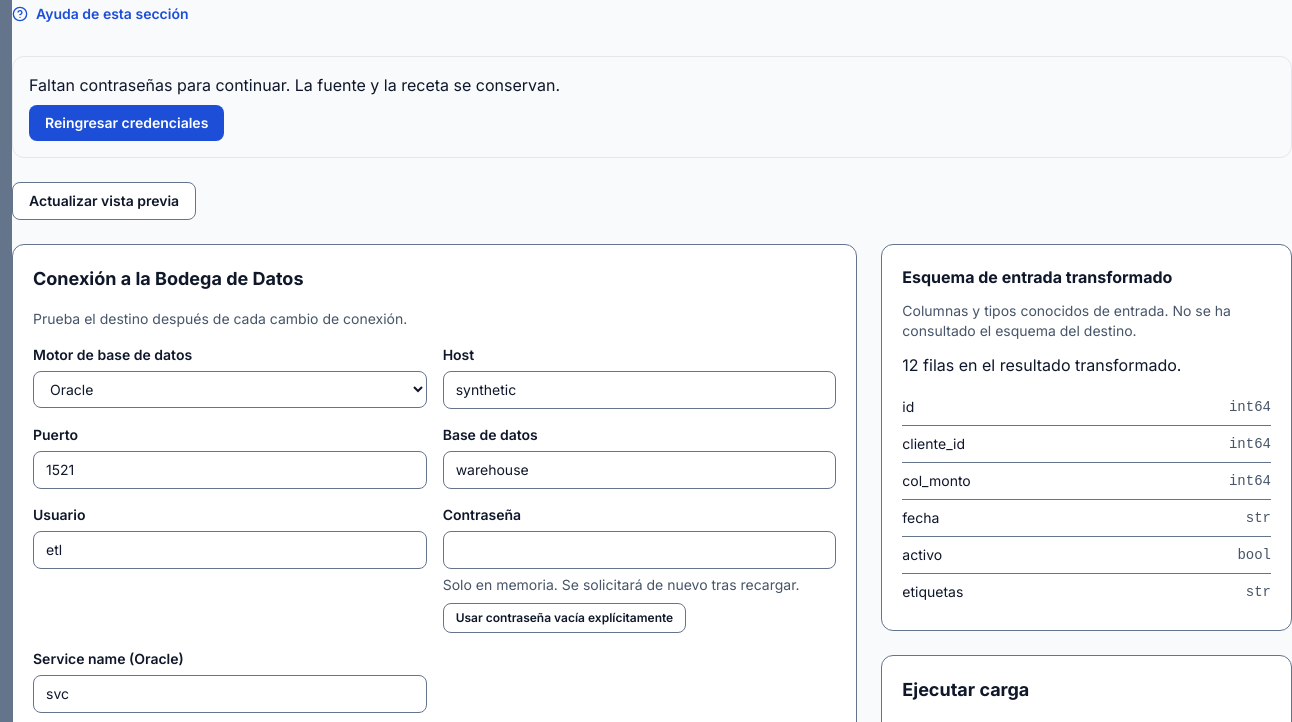
Test: load validation, snapshots and foreign keys › table  is rejected before sending
Click the button "Usar contraseña vacía explícitamente": (564, 618) [443,603,686,633]
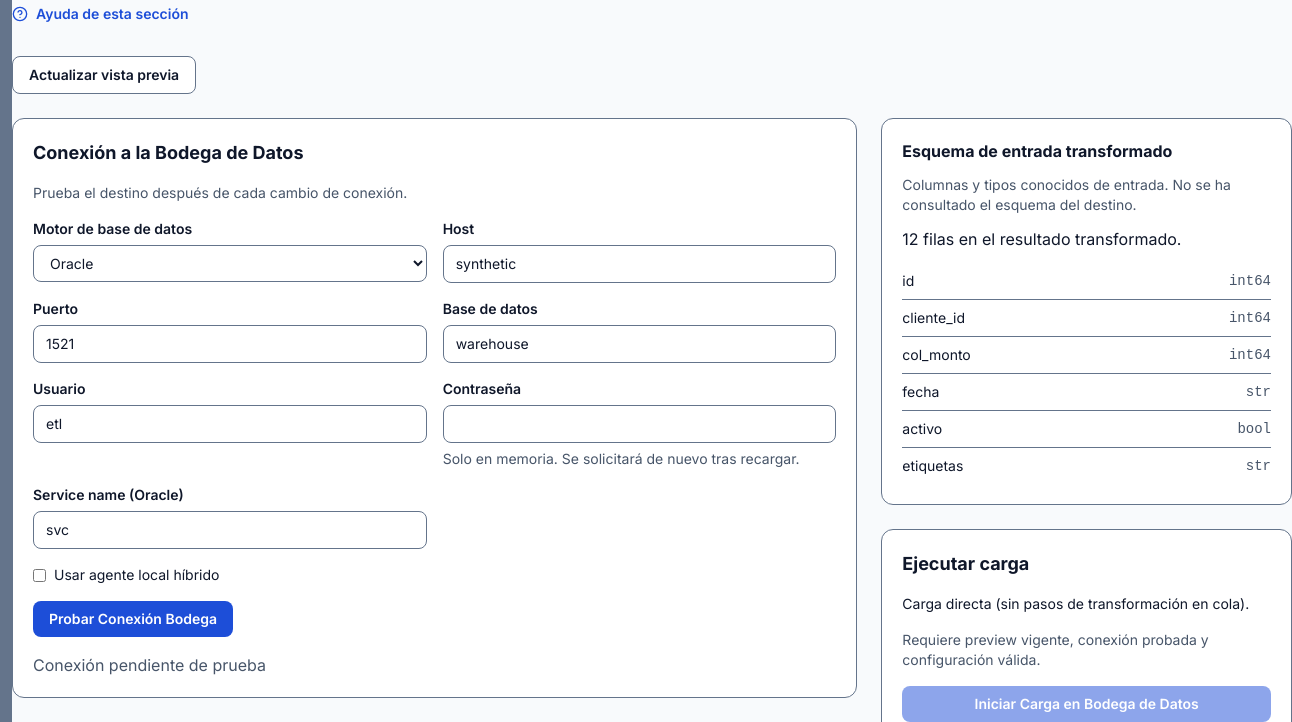
Click the button "Probar Conexión Bodega": (133, 619) [33,601,233,637]
(page scrolled)
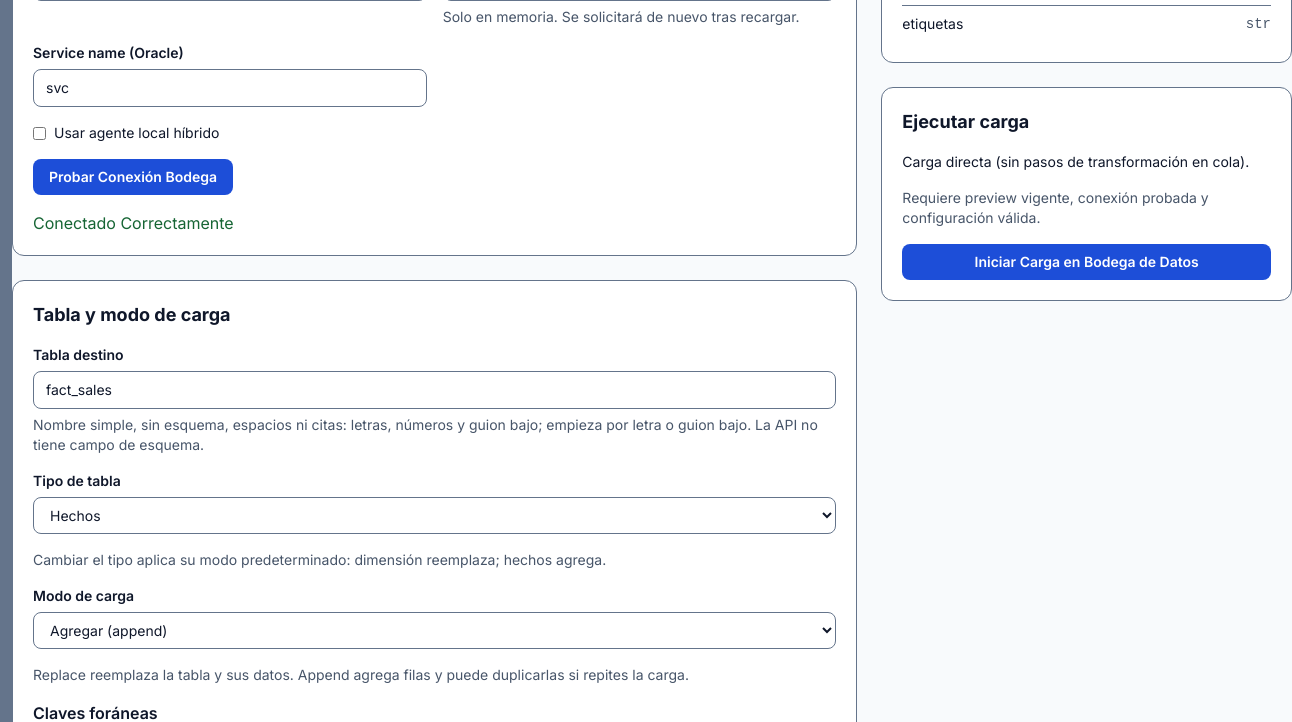
Expected: the text "Conectado Correctamente" is shown, [33,213,234,233]
Expected: the button "Iniciar Carga en Bodega de Datos" is enabled, [902,244,1271,280]
Clear the field labelled "Tabla destino": (435, 390) [33,371,836,409]
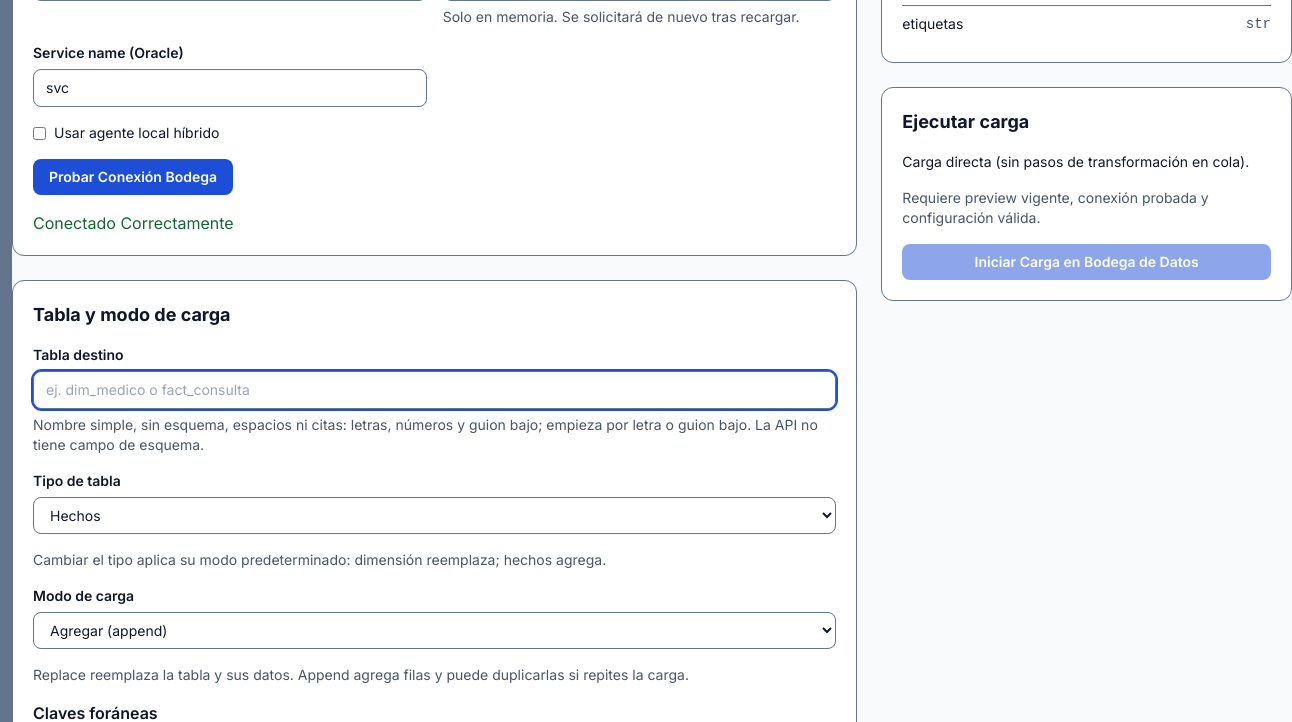
Expected: the button "Iniciar Carga en Bodega de Datos" is disabled, [902,244,1271,280]
